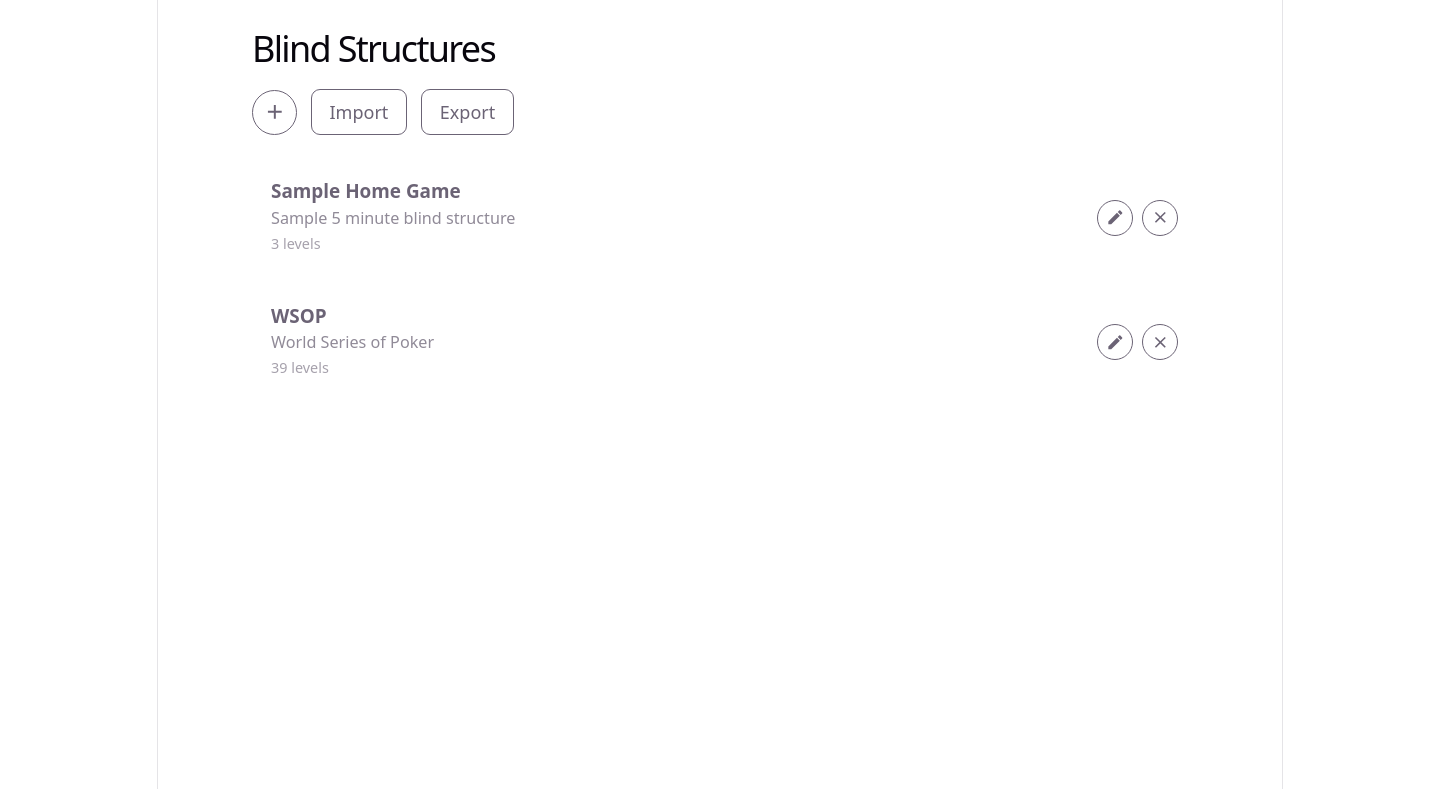
SettingsPage › does not navigate when the Edit or Delete icons are clicked
Click the button named "Edit Sample Home Game". click: [1115, 218]
box: [1097, 200, 1133, 236]
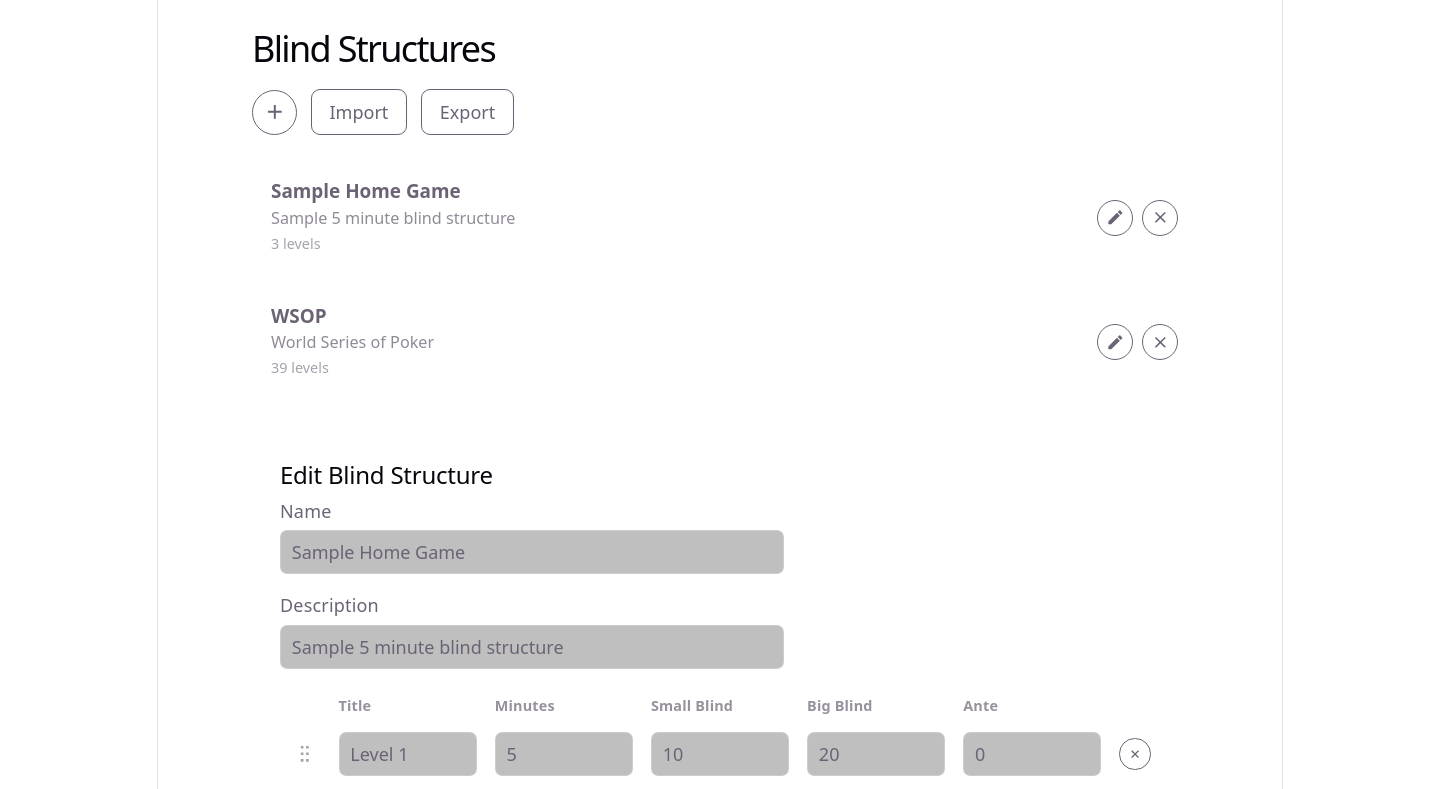
Check: the heading "Edit Blind Structure" is shown, box [280, 458, 493, 491]
